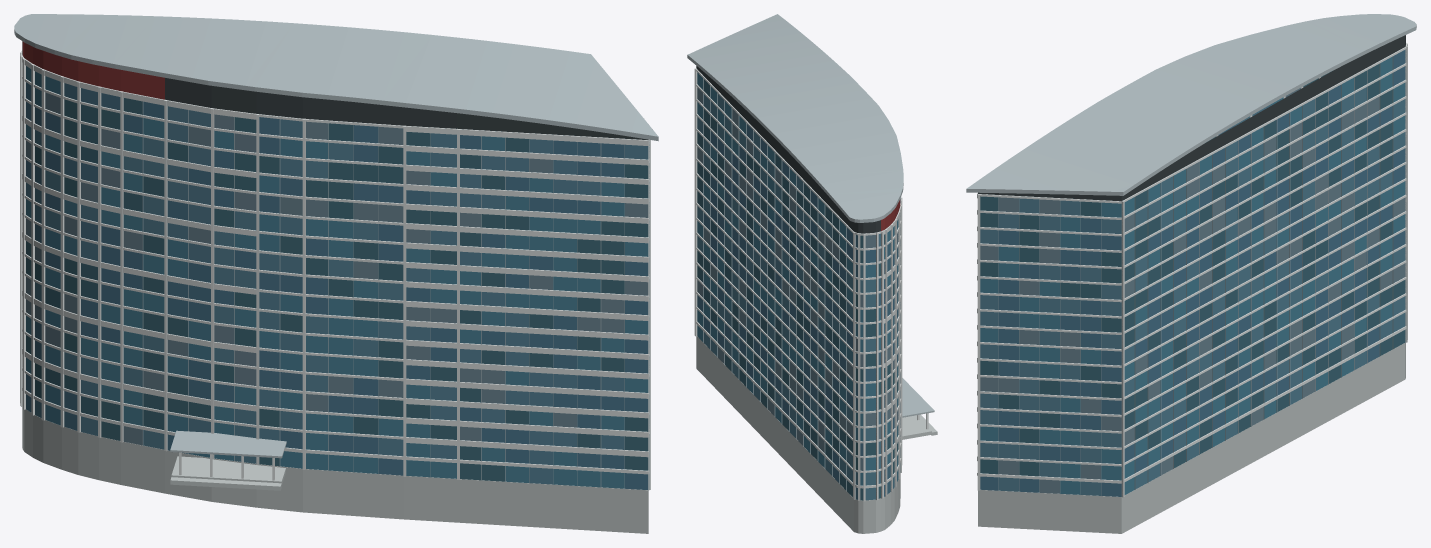
The model's file is menara_razak_lod1.glb.
3 views of the same model, side by side, from view 1: azimuth 30°, elevation 25°; view 2: azimuth 150°, elevation 25°; view 3: azimuth 270°, elevation 25° (orthographic). The views are drawn at different scales.
Visible parts, largest first — view 1: WhiteSpandrel, RoofCladding, Glass_0, Glass_1, Glass_3, Glass_2, Concrete, GlassNight, Reveal, Aluminum, Burgundy; view 2: RoofCladding, WhiteSpandrel, Glass_3, Glass_1, Glass_0, Glass_2, Concrete, Aluminum, GlassNight, Reveal; view 3: RoofCladding, WhiteSpandrel, Glass_1, Glass_2, Glass_3, Glass_0, Concrete, GlassNight, Aluminum, Reveal.
Boxes of the visible parts, <box> form: WhiteSpandrel: <box>20,50,650,490</box>; RoofCladding: <box>14,14,658,458</box>; Glass_0: <box>26,66,648,488</box>; Glass_1: <box>26,82,648,489</box>; Glass_3: <box>26,98,648,481</box>; Glass_2: <box>22,54,648,484</box>; Concrete: <box>22,407,648,533</box>; GlassNight: <box>26,92,648,445</box>; Reveal: <box>22,41,648,139</box>; Aluminum: <box>142,101,649,489</box>; Burgundy: <box>22,41,164,99</box>; RoofCladding: <box>687,14,934,417</box>; WhiteSpandrel: <box>694,68,928,501</box>; Glass_3: <box>697,76,898,500</box>; Glass_1: <box>697,122,900,499</box>; Glass_0: <box>697,72,898,485</box>; Glass_2: <box>697,94,898,500</box>; Concrete: <box>696,336,937,533</box>; Aluminum: <box>703,78,900,498</box>; GlassNight: <box>697,85,898,481</box>; Reveal: <box>696,66,880,233</box>; RoofCladding: <box>966,14,1416,195</box>; WhiteSpandrel: <box>977,43,1407,497</box>; Glass_1: <box>980,50,1405,496</box>; Glass_2: <box>980,86,1405,495</box>; Glass_3: <box>980,64,1405,476</box>; Glass_0: <box>980,56,1405,494</box>; Concrete: <box>978,342,1405,533</box>; GlassNight: <box>980,88,1405,493</box>; Aluminum: <box>998,49,1406,496</box>; Reveal: <box>978,35,1405,201</box>.
Bounding box in the file's own units: 61.39 × 59.7 × 68.05.
